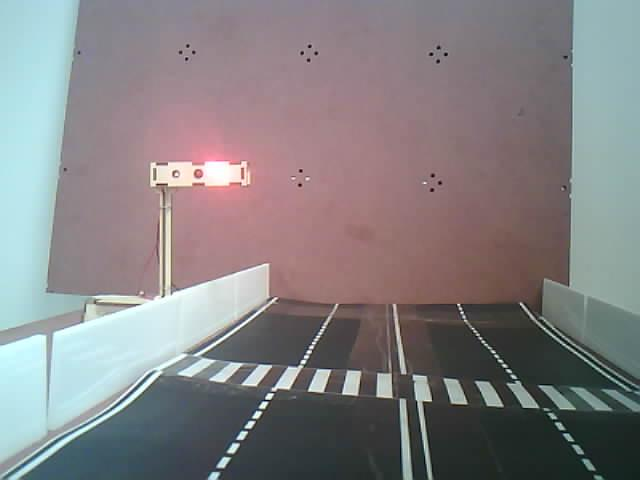crosswalk: (141, 335, 640, 426)
red: (147, 155, 283, 312)
